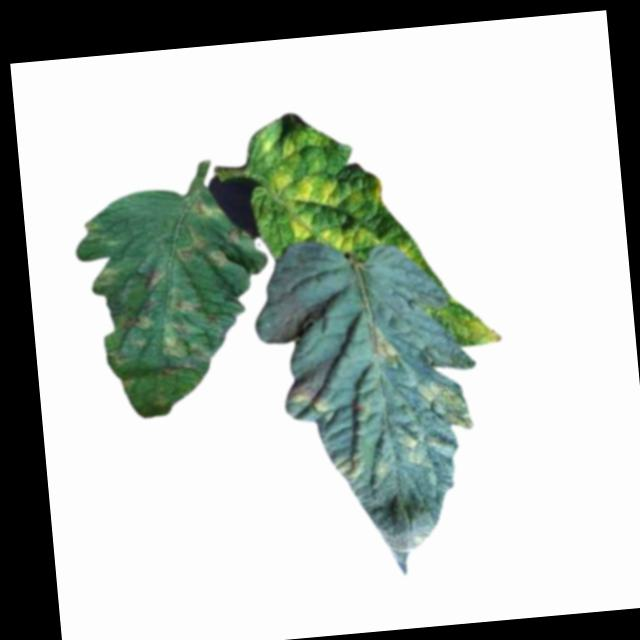Leaf_Mold: (269, 169, 366, 259), (420, 378, 474, 433), (282, 374, 340, 420), (174, 222, 226, 273), (397, 423, 443, 467), (157, 316, 194, 365), (367, 319, 401, 366), (114, 300, 156, 337), (186, 182, 230, 217), (460, 312, 502, 348), (330, 451, 365, 484), (135, 265, 167, 295), (93, 265, 121, 294), (369, 178, 388, 204)
